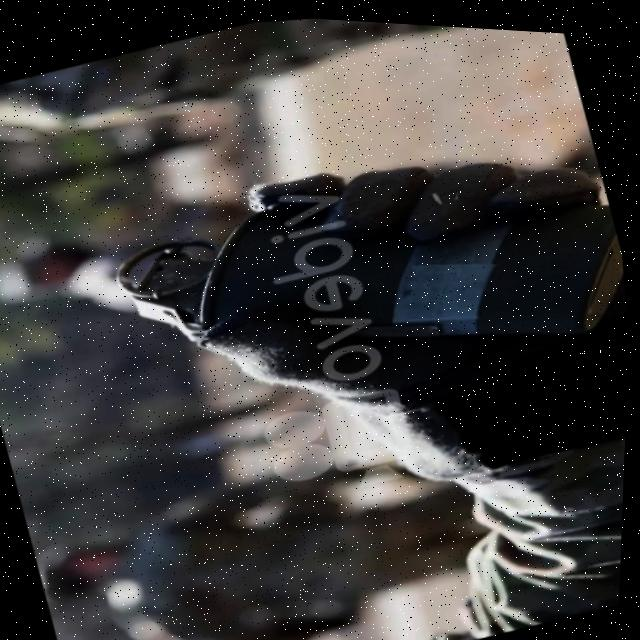grenade: (80, 89, 638, 463)
